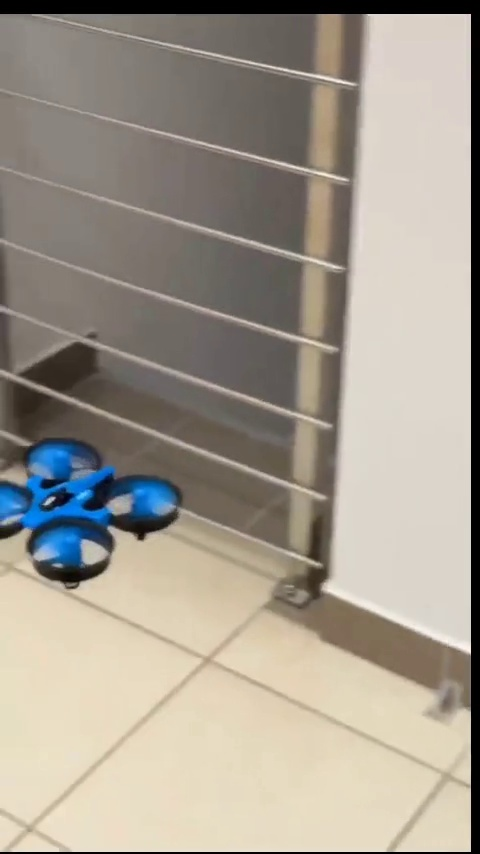drone: (2, 434, 186, 591)
